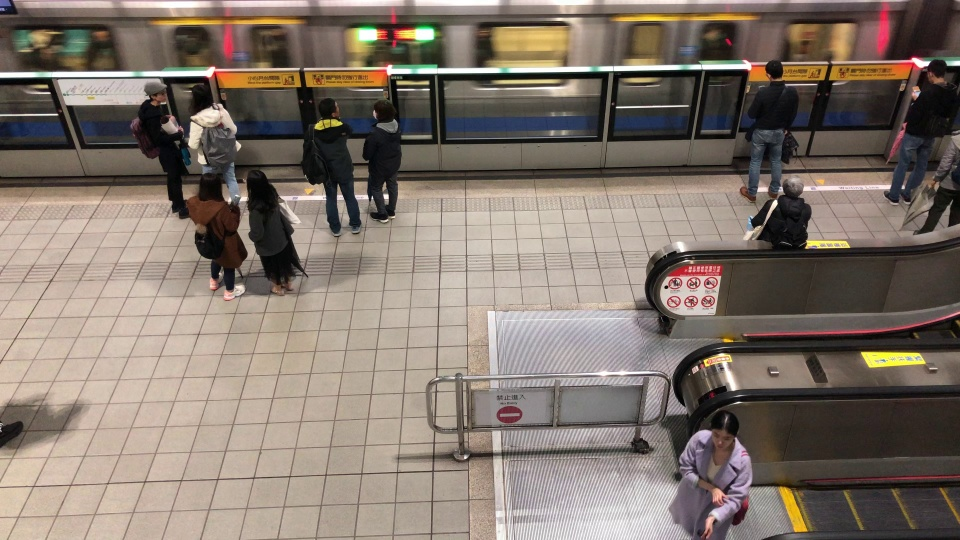person_head: (243, 168, 278, 209), (708, 410, 741, 453), (195, 172, 224, 204), (187, 84, 214, 115), (370, 98, 397, 123), (141, 81, 169, 105), (313, 97, 341, 120), (923, 59, 948, 84), (781, 175, 805, 201), (763, 59, 786, 85)
person_vbox: (880, 59, 960, 208), (663, 409, 751, 540), (727, 59, 798, 203), (298, 97, 366, 237), (238, 167, 309, 300), (179, 172, 252, 301), (126, 80, 193, 220), (895, 112, 960, 238), (181, 84, 245, 205), (357, 98, 406, 226), (739, 174, 813, 251)
